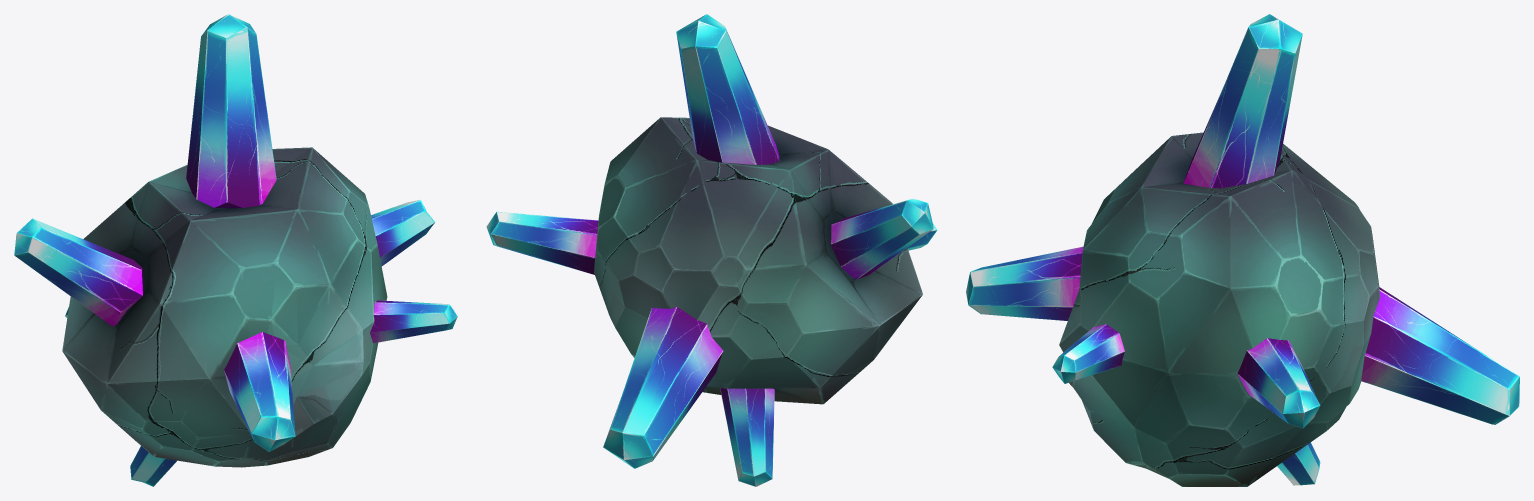
File: Asteroid_iron.fbx
3 renders of one model, left to right at view 1: azimuth 30°, elevation 25°; view 2: azimuth 150°, elevation 25°; view 3: azimuth 270°, elevation 25°, orthographic. The views are drawn at different scales.
Parts seen in each view (by area): view 1: Icosphere; view 2: Icosphere; view 3: Icosphere.
Part boxes in pixels (bbox=[...]): Icosphere: bbox=[14, 14, 457, 486]; Icosphere: bbox=[486, 14, 937, 486]; Icosphere: bbox=[966, 14, 1519, 486].
Bounding box in the file's own units: 90 × 90 × 90.
